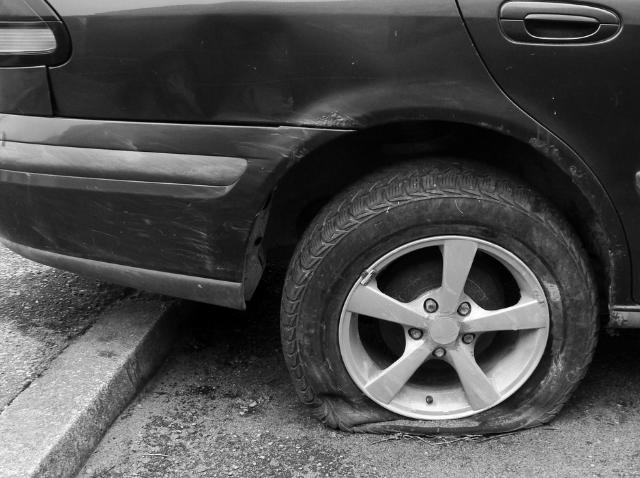Bumper: (20, 168, 257, 293)
Fender: (99, 8, 337, 160)
